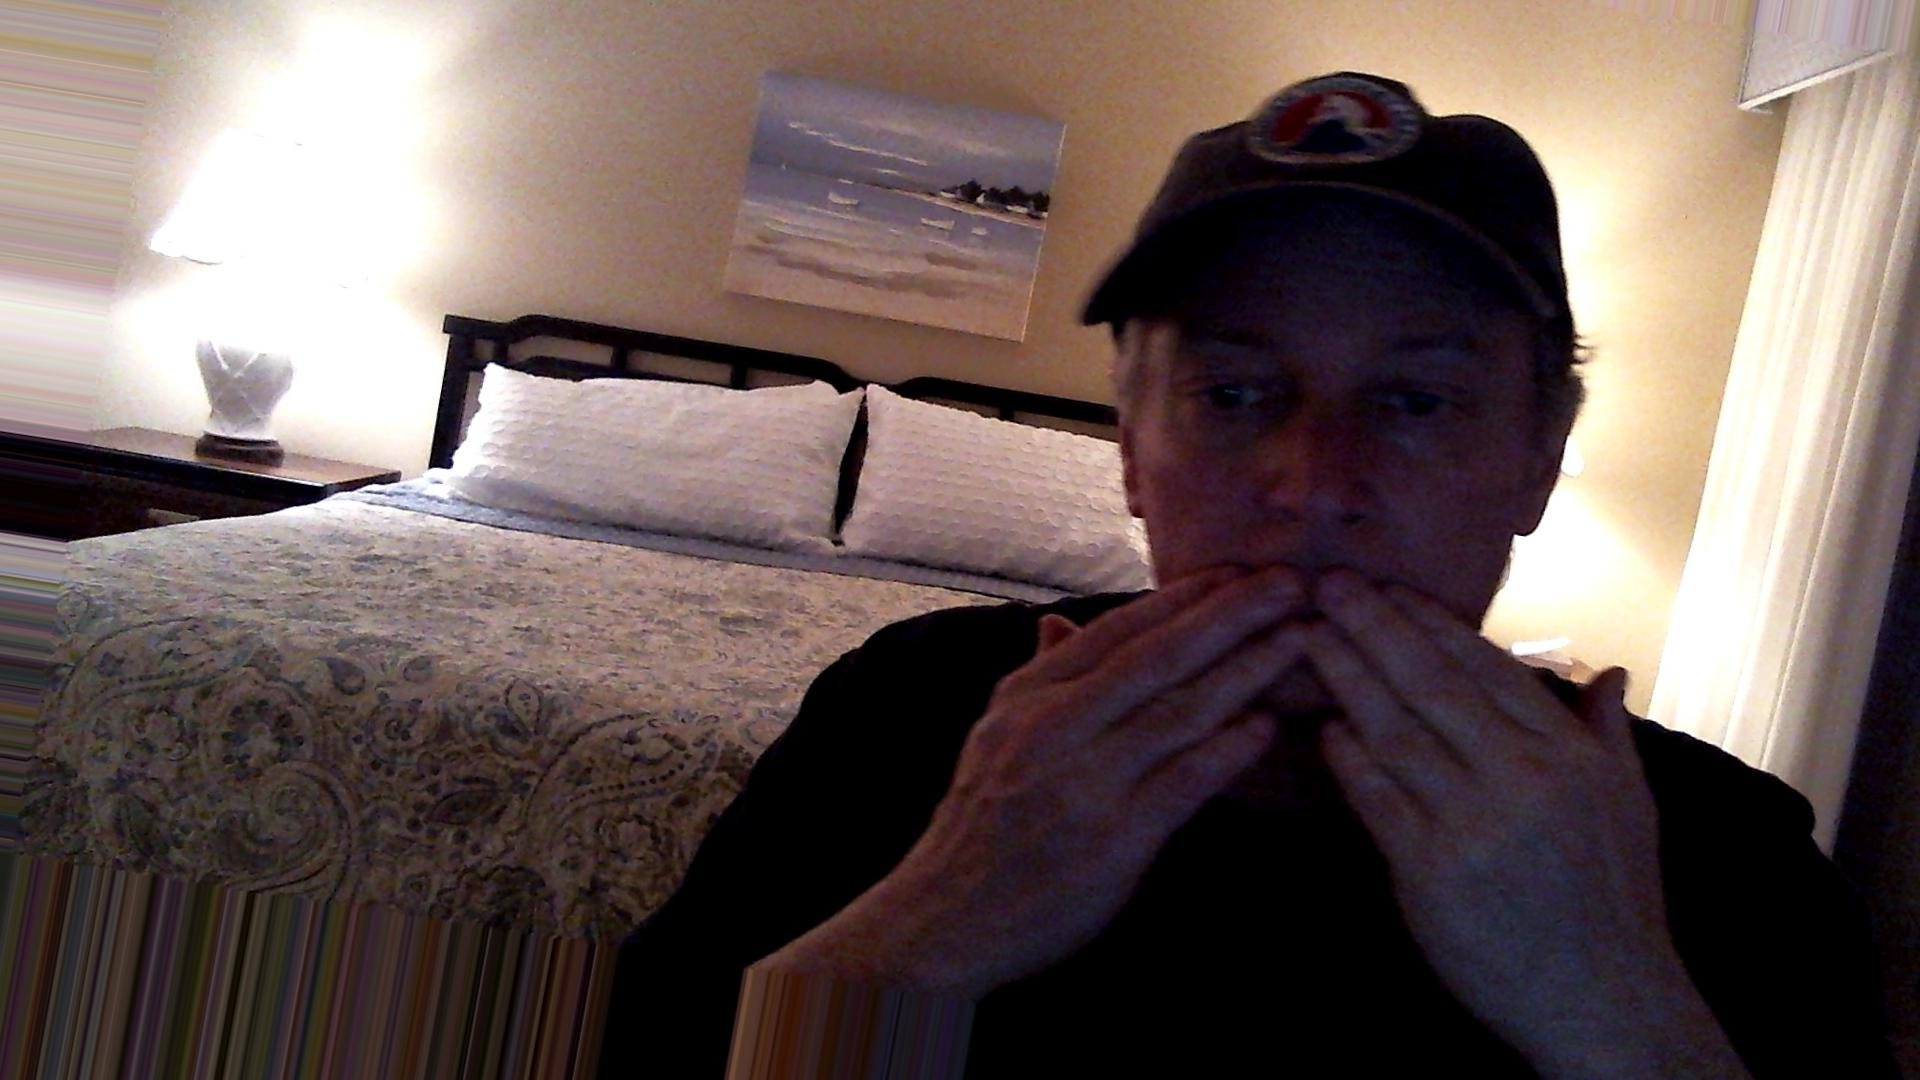Thank You: (951, 546, 1733, 1000)
